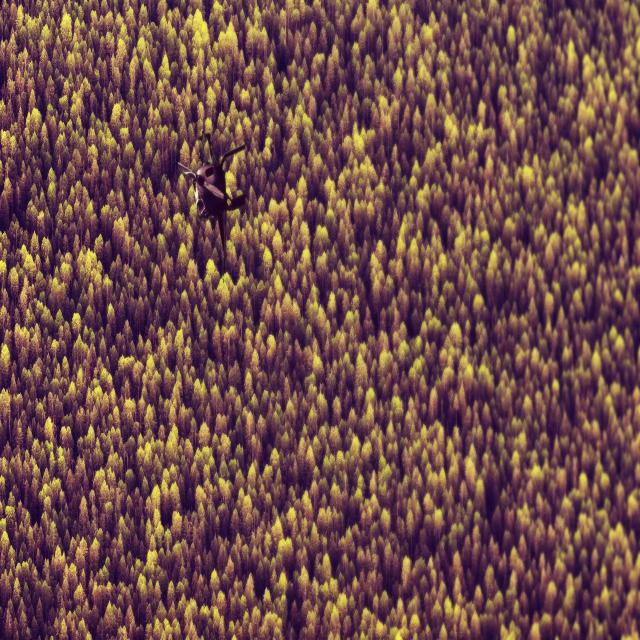airplane: (175, 131, 246, 274)
